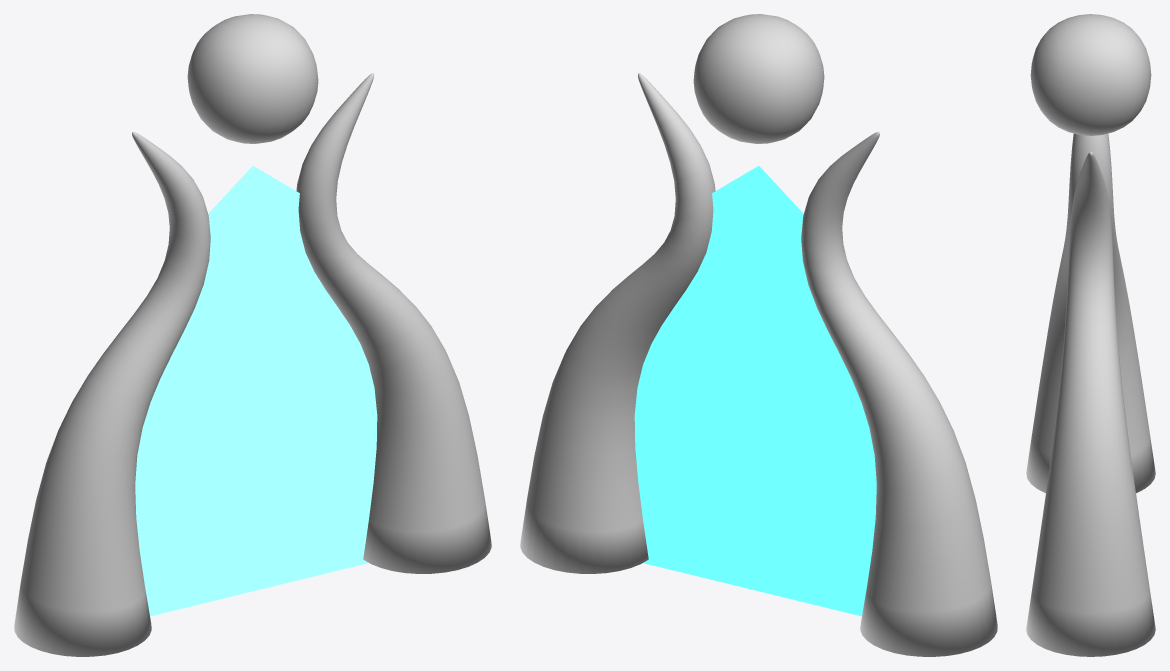
File: gate.fbx
3 views of the same model, side by side, from view 1: azimuth 30°, elevation 25°; view 2: azimuth 150°, elevation 25°; view 3: azimuth 270°, elevation 25° (orthographic). The views are drawn at different scales.
Visible parts, largest first — view 1: Cylinder, Plane, Cube.001; view 2: Cylinder, Plane, Cube.001; view 3: Cylinder, Cube.001.
Part boxes in pixels (<box>): Cylinder: <box>14,73,491,656</box>; Plane: <box>135,166,377,616</box>; Cube.001: <box>187,14,318,143</box>; Cylinder: <box>520,73,997,656</box>; Plane: <box>634,166,876,616</box>; Cube.001: <box>693,14,824,143</box>; Cylinder: <box>1026,133,1155,656</box>; Cube.001: <box>1030,14,1151,135</box>.
Size of the model in its own units: 694 by 823 by 180.
